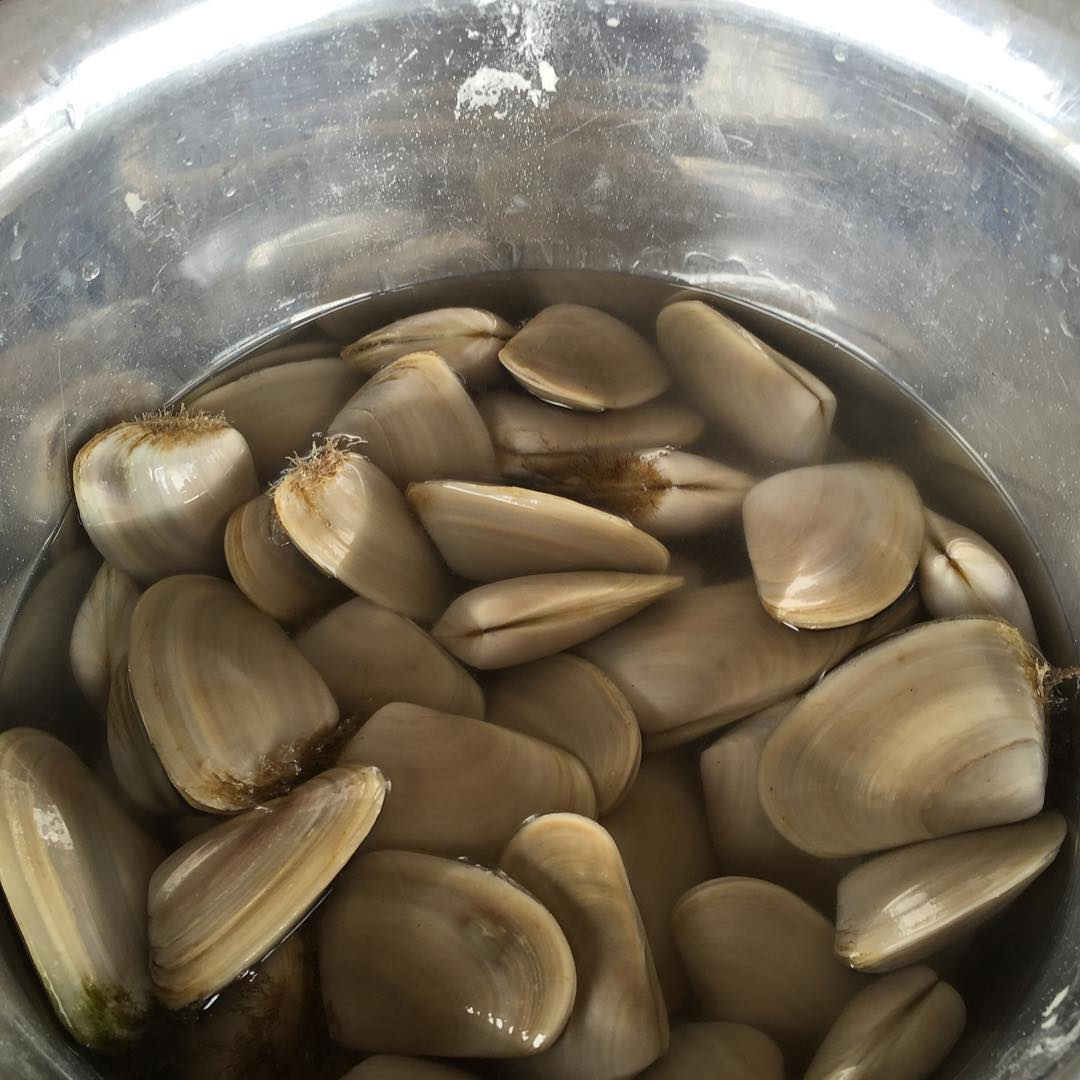tuatua: (764, 612, 1059, 851), (142, 757, 391, 1002), (2, 713, 170, 1067), (305, 849, 583, 1057), (125, 570, 347, 788), (580, 581, 867, 743), (505, 819, 681, 1080), (338, 685, 602, 858), (646, 285, 840, 471), (669, 872, 862, 1047), (824, 827, 1067, 964), (740, 454, 919, 634), (273, 441, 445, 625), (63, 413, 250, 580), (407, 468, 669, 585), (280, 592, 495, 730), (439, 563, 684, 663), (324, 350, 501, 481), (552, 443, 767, 541), (498, 299, 673, 415), (924, 496, 1053, 644), (812, 956, 965, 1080), (340, 302, 525, 384)
